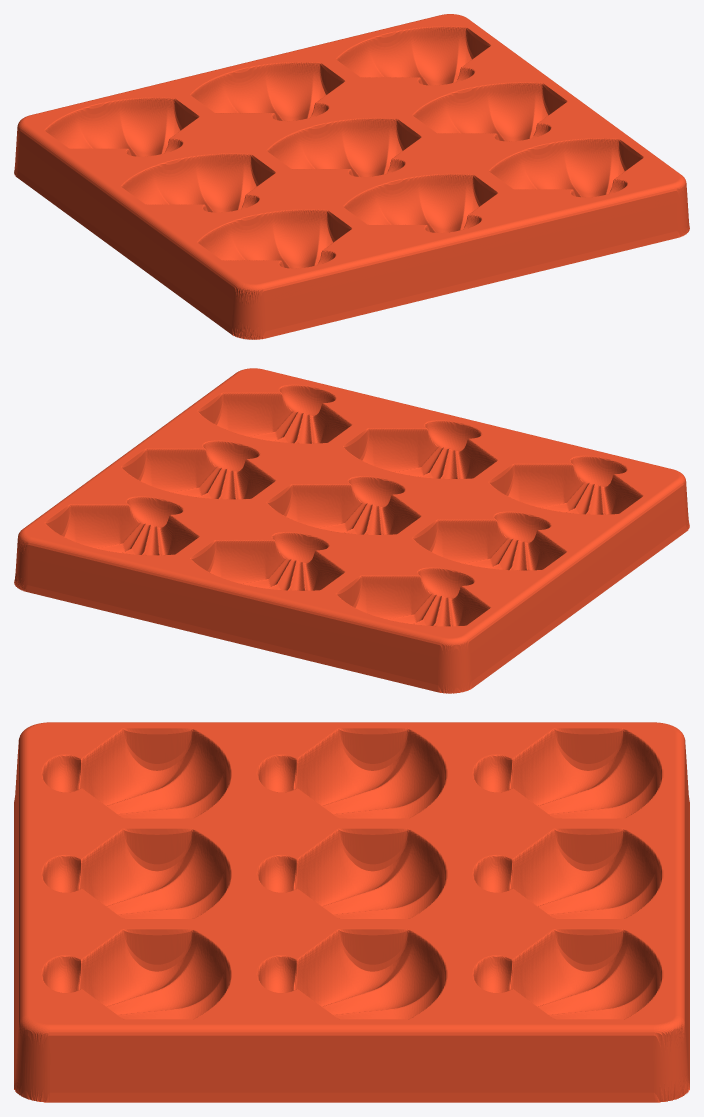
The model's file is mold.glb.
The picture shows the model from 3 angles, top to bottom: view 1: azimuth 30°, elevation 25°; view 2: azimuth 150°, elevation 25°; view 3: azimuth 270°, elevation 25°; orthographic projection. The views are drawn at different scales.
Parts seen in each view (by area): view 1: geometry_0; view 2: geometry_0; view 3: geometry_0.
Boxes of the visible parts, x1=… form: geometry_0: x1=14, y1=14, x2=689, y2=339; geometry_0: x1=14, y1=368, x2=689, y2=693; geometry_0: x1=14, y1=722, x2=689, y2=1102.
Size of the model in its own units: 0.1841 by 0.0197 by 0.1678.
